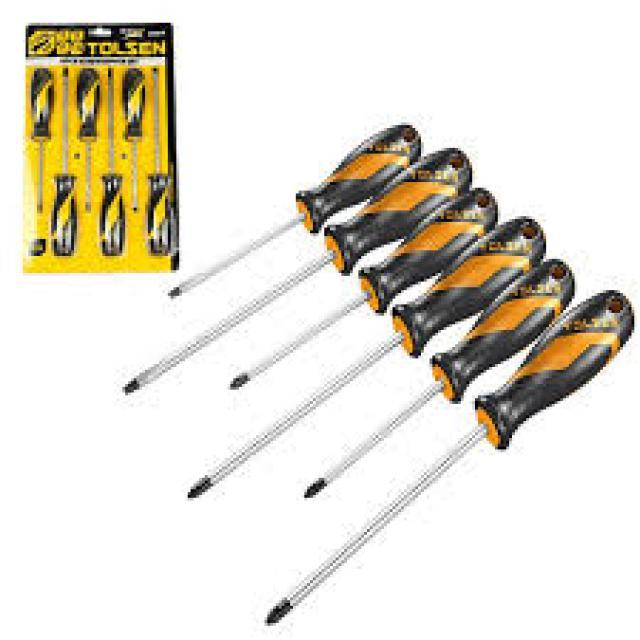screwdriver: (258, 289, 638, 630), (183, 213, 548, 501), (114, 144, 478, 396), (302, 256, 574, 503), (229, 182, 499, 390), (161, 122, 422, 302), (144, 64, 177, 260), (51, 60, 83, 259), (95, 64, 126, 258), (116, 66, 146, 216), (74, 67, 102, 212), (28, 62, 52, 220)
